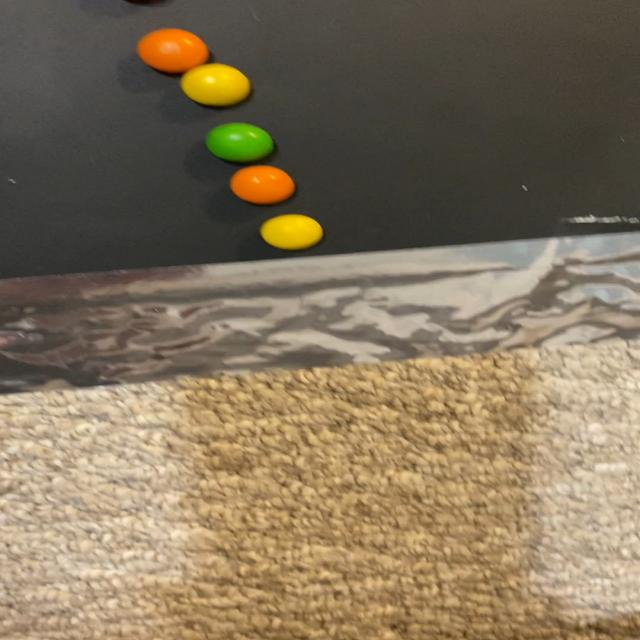smartie: (136, 28, 207, 72), (180, 63, 249, 105), (205, 122, 273, 162), (229, 165, 294, 204), (259, 214, 322, 250)
